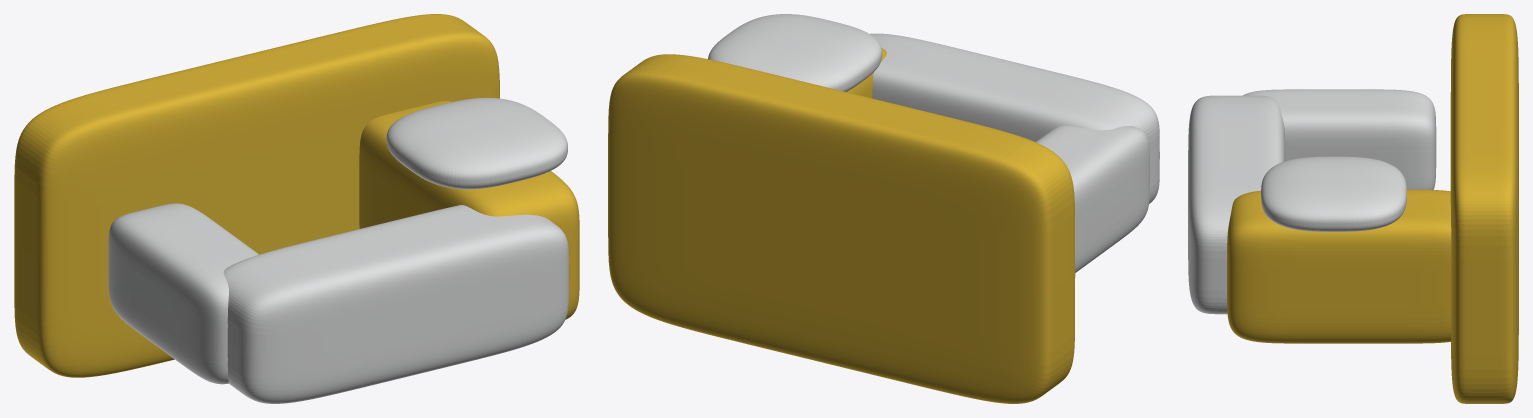
Rendered from classic_sewing_machine_sq.glb.
3 views of the same model, side by side, from view 1: azimuth 30°, elevation 25°; view 2: azimuth 150°, elevation 25°; view 3: azimuth 270°, elevation 25° (orthographic). The views are drawn at different scales.
Parts seen in each view (by area): view 1: superquadric_0, superquadric_2, superquadric_3, superquadric_4, superquadric_1; view 2: superquadric_0, superquadric_2, superquadric_3, superquadric_4; view 3: superquadric_1, superquadric_0, superquadric_2, superquadric_3, superquadric_4.
Boxes of the visible parts, x1,y1,x2,y2 form: superquadric_0: (14,14,499,377); superquadric_2: (223,205,568,403); superquadric_3: (108,203,258,384); superquadric_4: (386,97,567,189); superquadric_1: (359,101,579,319); superquadric_0: (608,54,1075,403); superquadric_2: (870,33,1159,203); superquadric_3: (1036,125,1149,272); superquadric_4: (708,14,882,91); superquadric_1: (1227,189,1451,343); superquadric_0: (1450,14,1518,403); superquadric_2: (1188,95,1285,314); superquadric_3: (1243,89,1436,189); superquadric_4: (1261,156,1406,231).
Size of the model in its own units: 1 by 0.5417 by 0.7084.
